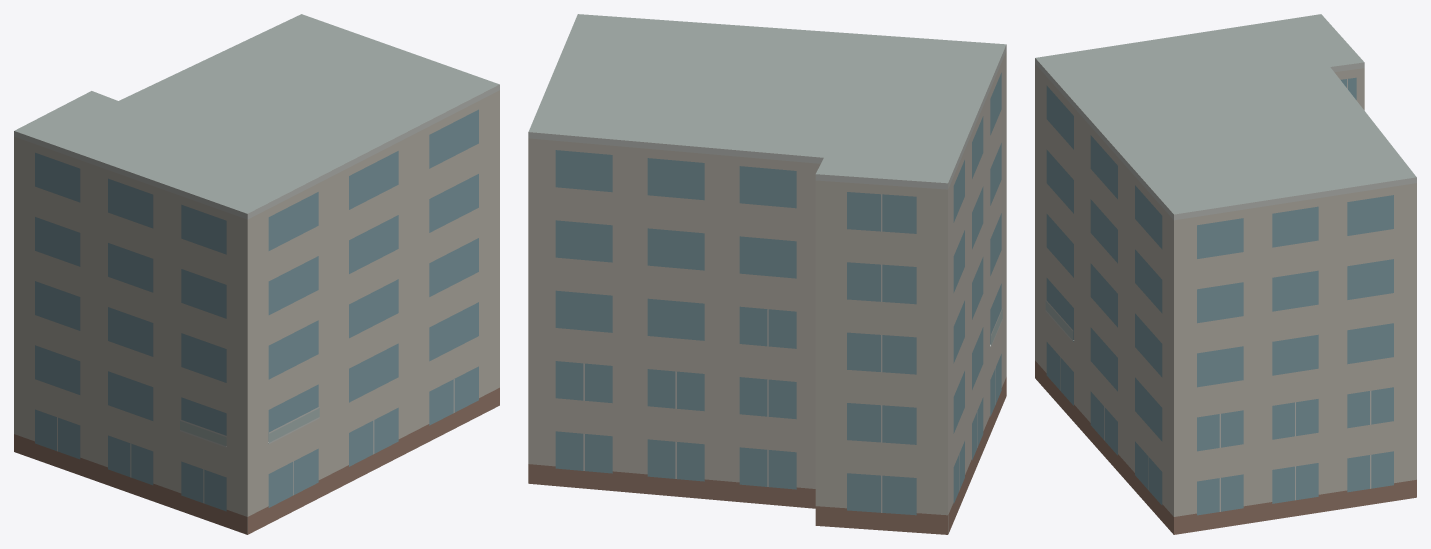
The model's file is survey-upis-32844955.glb.
3 renders of one model, left to right at view 1: azimuth 30°, elevation 25°; view 2: azimuth 150°, elevation 25°; view 3: azimuth 270°, elevation 25°, orthographic. The views are drawn at different scales.
Parts seen in each view (by area): view 1: survey-upis-32844955.tmp; view 2: survey-upis-32844955.tmp; view 3: survey-upis-32844955.tmp.
Boxes of the visible parts, x1,y1,x2,y2 form: survey-upis-32844955.tmp: (14,14,499,534); survey-upis-32844955.tmp: (528,14,1006,534); survey-upis-32844955.tmp: (1035,14,1416,534).
Bounding box in the file's own units: 18.21 × 13.55 × 14.64.
